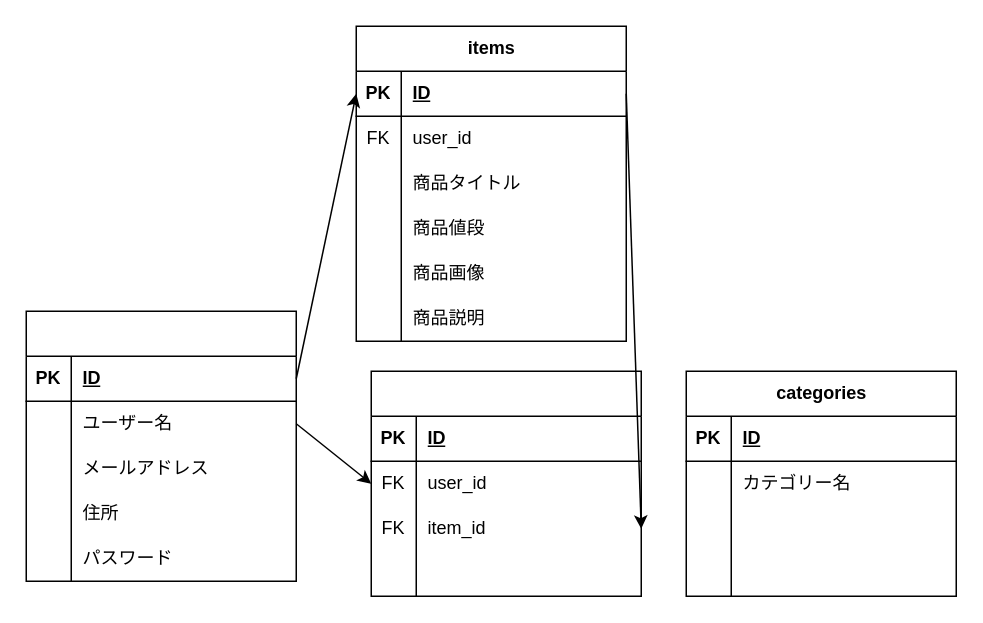
Image size: 983x623. Some labels were removed from this diagram. The shapes that lost their labels are listed below. From the top down, each one's box as (x1, y1, x2, y2) in pixels, then its label:
(25, 310, 296, 581): users
(370, 370, 641, 596): purchases
